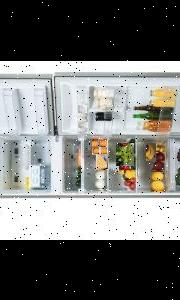Huevos: (78, 104, 87, 112), (78, 126, 88, 132), (78, 121, 88, 127)
Leche: (95, 166, 107, 178), (95, 178, 107, 189)
Lechuga/Endivia: (116, 142, 134, 165)
Limón: (150, 178, 166, 190), (150, 171, 165, 180)
Manzana: (152, 160, 165, 170), (153, 150, 165, 160)
Pimiento: (120, 161, 132, 172), (124, 168, 136, 178)
Plátano: (146, 142, 156, 160)
Queso: (96, 153, 108, 168)
Yogur: (92, 138, 100, 147), (99, 146, 108, 154), (92, 146, 100, 154), (100, 138, 108, 146)
